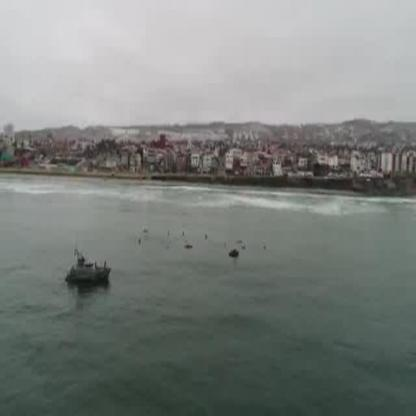Boat: (62, 247, 110, 294)
